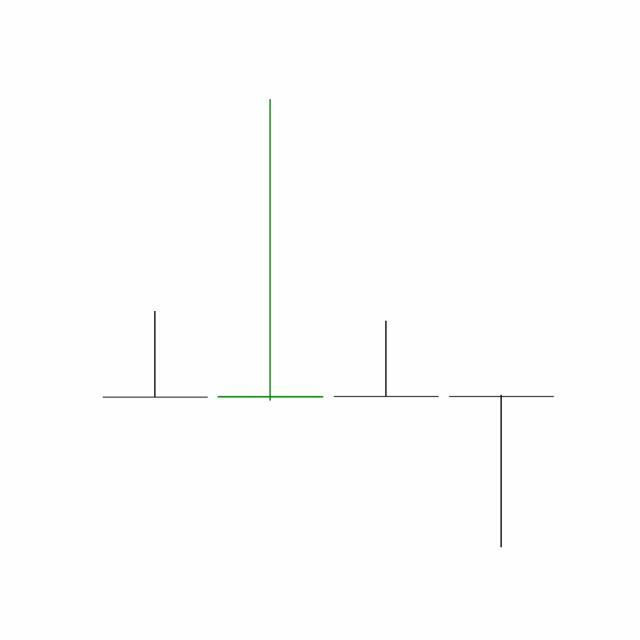Dragonfly Doji: (444, 394, 560, 550)
